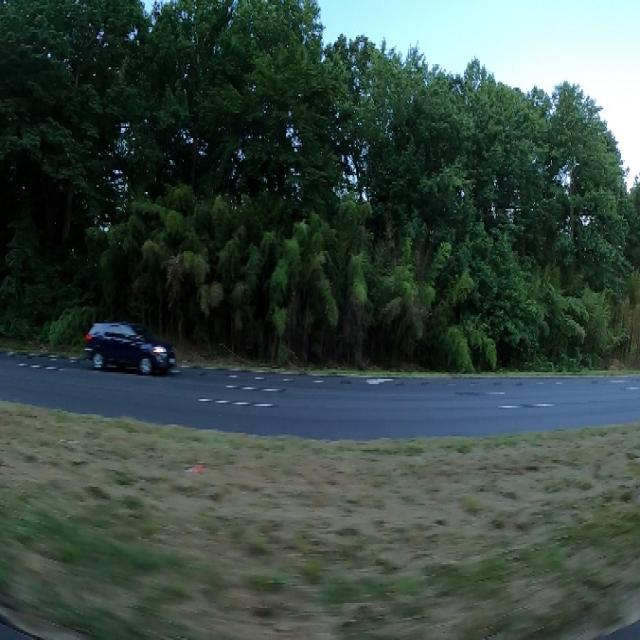cars: (83, 322, 175, 376)
